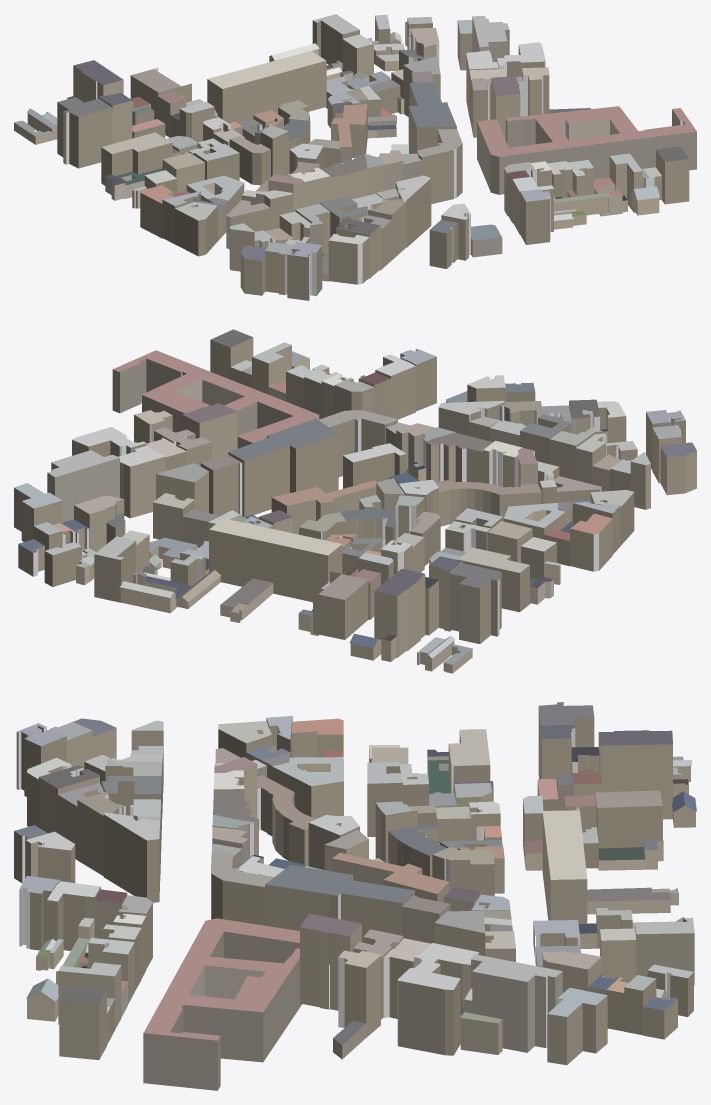
3 renders of one model, top to bottom at view 1: azimuth 30°, elevation 25°; view 2: azimuth 150°, elevation 25°; view 3: azimuth 270°, elevation 25°, orthographic. The views are drawn at different scales.
Parts seen in each view (by area): view 1: tuile; view 2: tuile; view 3: tuile.
Part boxes in pixels (box(x1,y1,x2,y2)): tuile: box(14, 14, 696, 300); tuile: box(14, 329, 696, 673); tuile: box(14, 702, 696, 1090).
Bounding box in the file's own units: 286 × 35.42 × 259.
